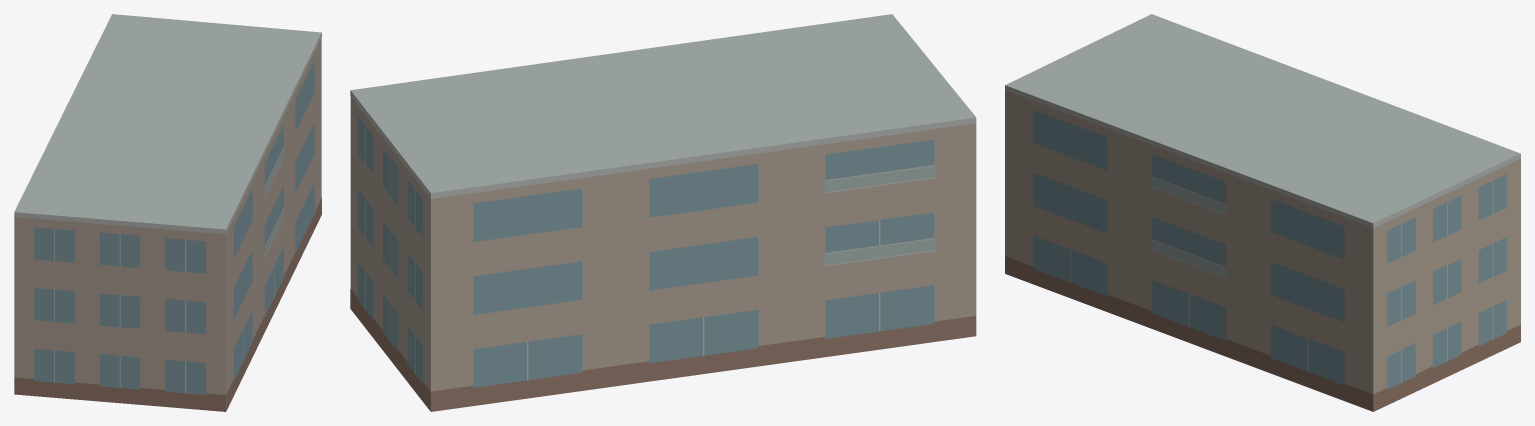
The model's file is survey-upis-32934249.glb.
3 renders of one model, left to right at view 1: azimuth 30°, elevation 25°; view 2: azimuth 150°, elevation 25°; view 3: azimuth 270°, elevation 25°, orthographic. The views are drawn at different scales.
Visible parts, largest first — view 1: survey-upis-32934249.tmp; view 2: survey-upis-32934249.tmp; view 3: survey-upis-32934249.tmp.
Boxes of the visible parts, box(x1,y1,x2,y2) form: survey-upis-32934249.tmp: box(14, 14, 321, 411); survey-upis-32934249.tmp: box(350, 14, 976, 411); survey-upis-32934249.tmp: box(1005, 14, 1520, 411).
Bounding box in the file's own units: 21.79 × 9.15 × 22.69.
